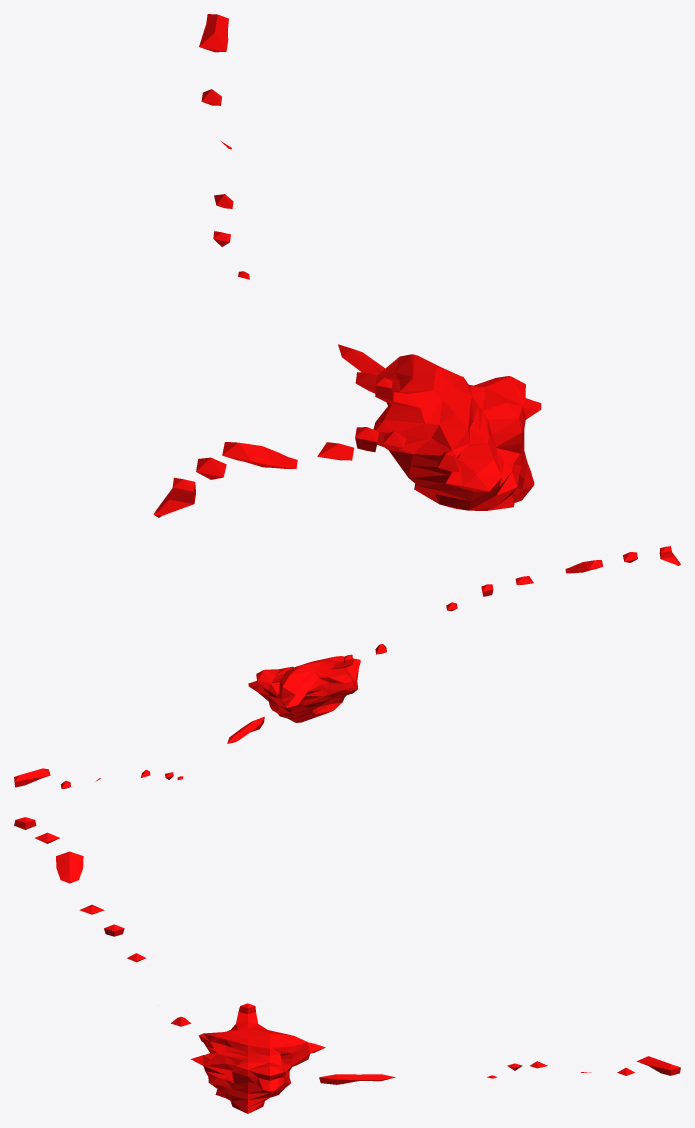
Rendered from hsdR_coarse.dae.
3 views of the same model, one above another, from view 1: azimuth 30°, elevation 25°; view 2: azimuth 150°, elevation 25°; view 3: azimuth 270°, elevation 25° (orthographic). The views are drawn at different scales.
Visible parts, largest first — view 1: hsdR; view 2: hsdR; view 3: hsdR.
Part boxes in pixels (<box>): hsdR: <box>153,14,541,517</box>; hsdR: <box>14,546,680,788</box>; hsdR: <box>14,817,680,1113</box>.
Size of the model in its own units: 380 by 162 by 608.
